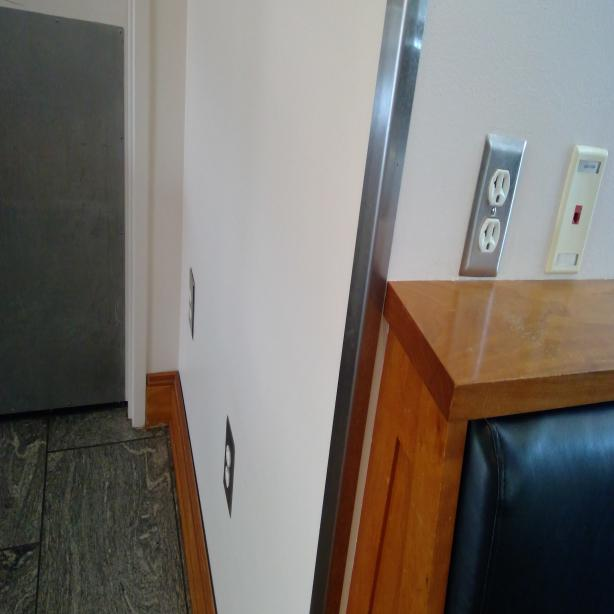typeb: (486, 169, 510, 207), (480, 219, 498, 256), (224, 446, 230, 466), (224, 470, 230, 485)
